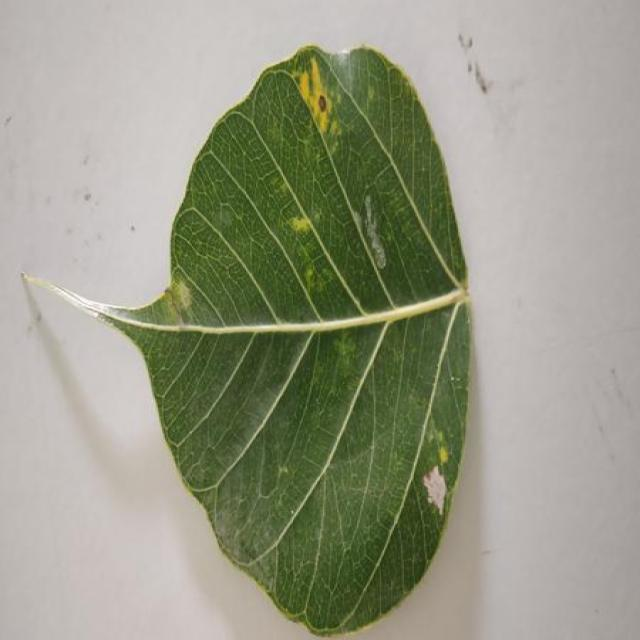arali: (30, 46, 470, 633)
defected arali: (262, 49, 423, 319)
